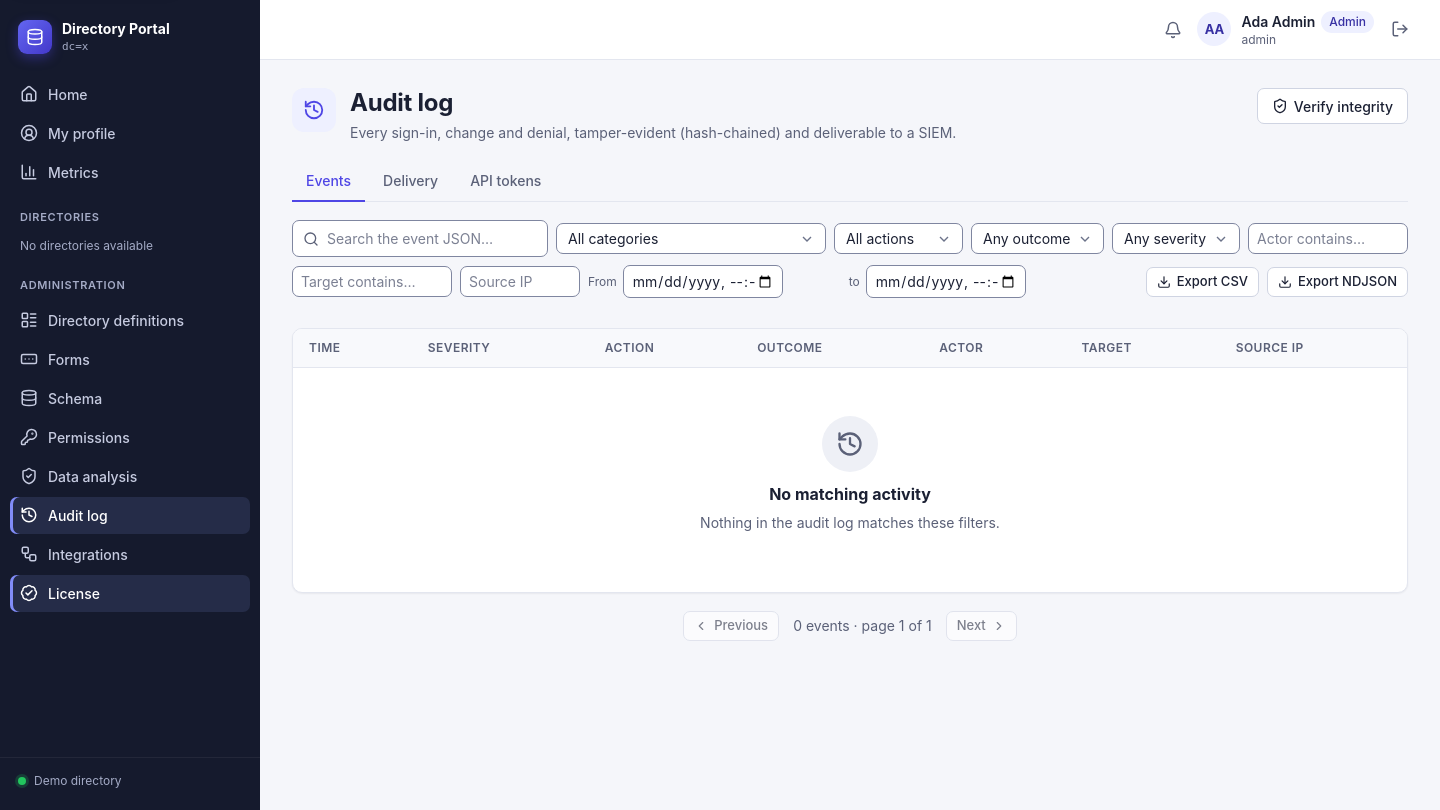
Test: audit log page › verifies the chain and shows the result
The image size is (1440, 810).
Click the button "Verify integrity": (1332, 106) [1257, 88, 1408, 124]
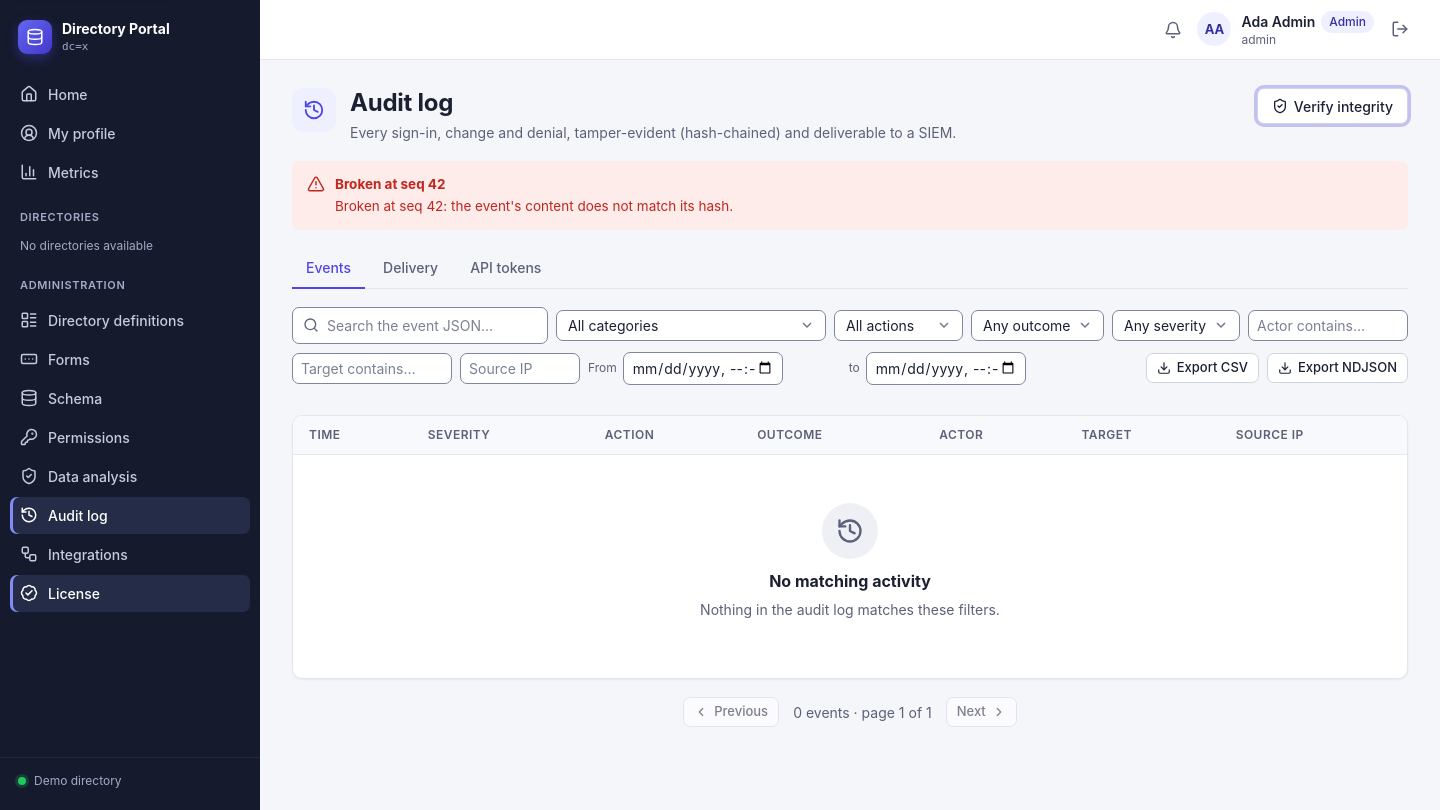
Now the text "Broken at seq 42" is shown, box [335, 176, 446, 192]
